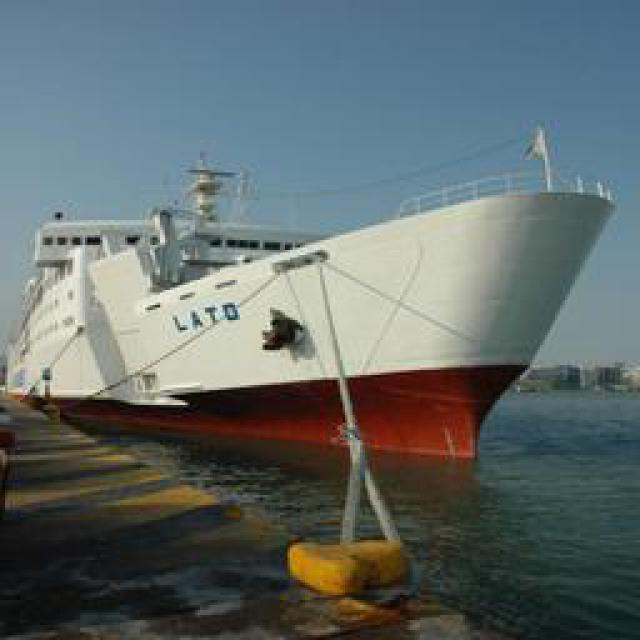Ship: (14, 163, 617, 478)
